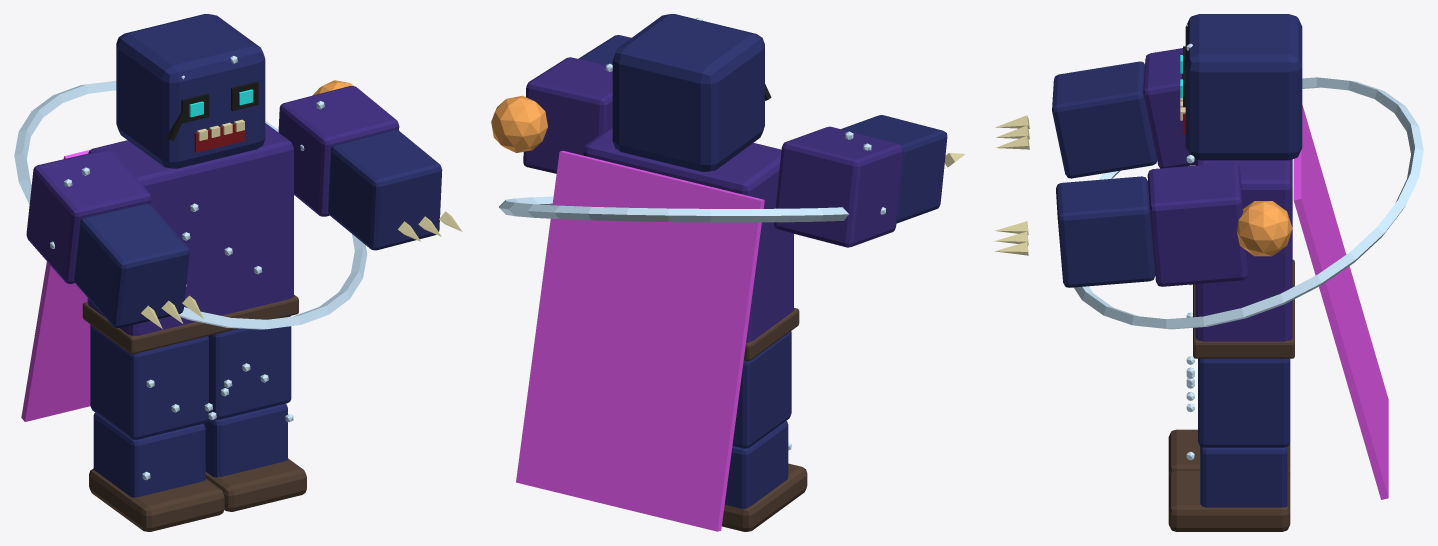
The model's file is zombi_cosmico.glb.
3 renders of one model, left to right at view 1: azimuth 30°, elevation 25°; view 2: azimuth 150°, elevation 25°; view 3: azimuth 270°, elevation 25°, orthographic. The views are drawn at different scales.
Parts seen in each view (by area): view 1: Torso, LeftLeg, LeftArm, Head, RightArm, RightLeg; view 2: Torso, Head, LeftArm, LeftLeg, RightArm; view 3: Torso, RightArm, RightLeg, Head, LeftArm, LeftLeg.
Boxes of the visible parts, bbox=[...] form: Torso: bbox=[14, 80, 367, 421]; LeftLeg: bbox=[89, 325, 224, 531]; LeftArm: bbox=[26, 149, 203, 328]; Head: bbox=[116, 14, 265, 168]; RightArm: bbox=[278, 86, 462, 250]; RightLeg: bbox=[204, 316, 306, 511]; Torso: bbox=[491, 95, 849, 531]; Head: bbox=[612, 14, 771, 171]; LeftArm: bbox=[774, 115, 965, 247]; LeftLeg: bbox=[722, 331, 807, 531]; RightArm: bbox=[523, 35, 631, 173]; Torso: bbox=[1074, 77, 1423, 499]; RightArm: bbox=[994, 154, 1248, 287]; RightLeg: bbox=[1168, 358, 1290, 531]; Head: bbox=[1180, 14, 1302, 160]; LeftArm: bbox=[995, 48, 1195, 178]; LeftLeg: bbox=[1168, 312, 1290, 477].
Bounding box in the file's own units: 4.21 × 5.22 × 4.42.
Materials: 1 (1 with a texture image).
